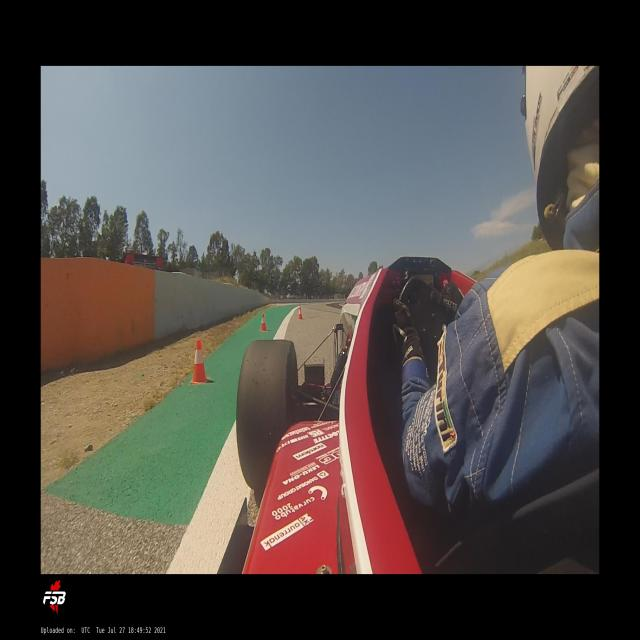orange_cone: (190, 339, 210, 384), (260, 313, 268, 332), (298, 306, 304, 321)
